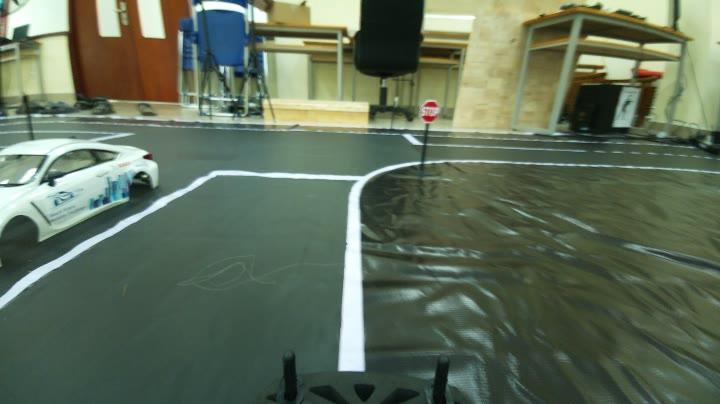stop: (415, 95, 443, 127)
